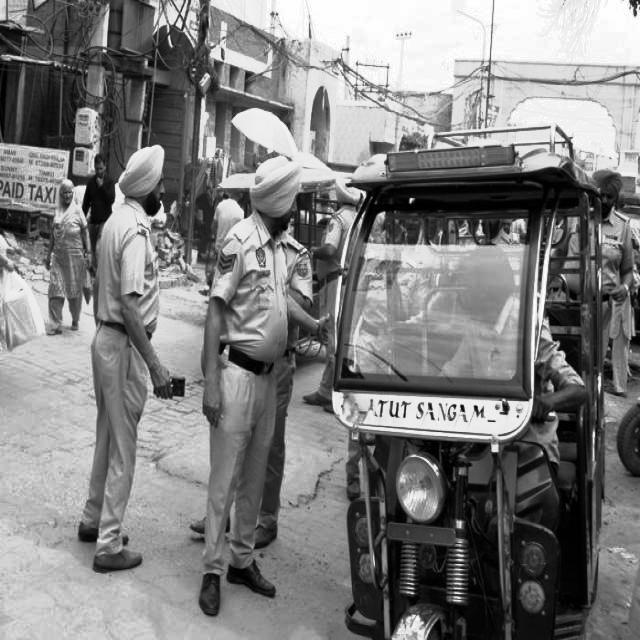Toto: (330, 138, 622, 640)
